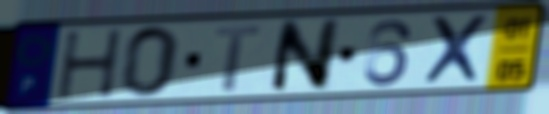0: (116, 24, 188, 100)
6: (362, 18, 414, 88)
H: (55, 27, 126, 103)
N: (266, 16, 344, 96)
T: (212, 23, 265, 94)
X: (420, 12, 493, 88)
